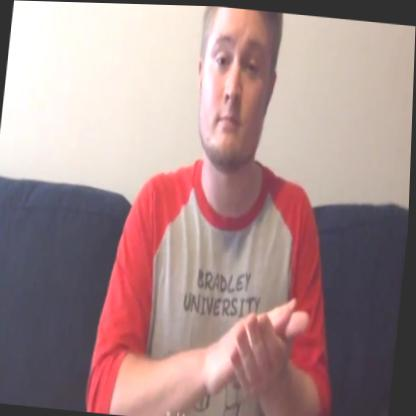NiceToMeetYou: (190, 270, 317, 416)
